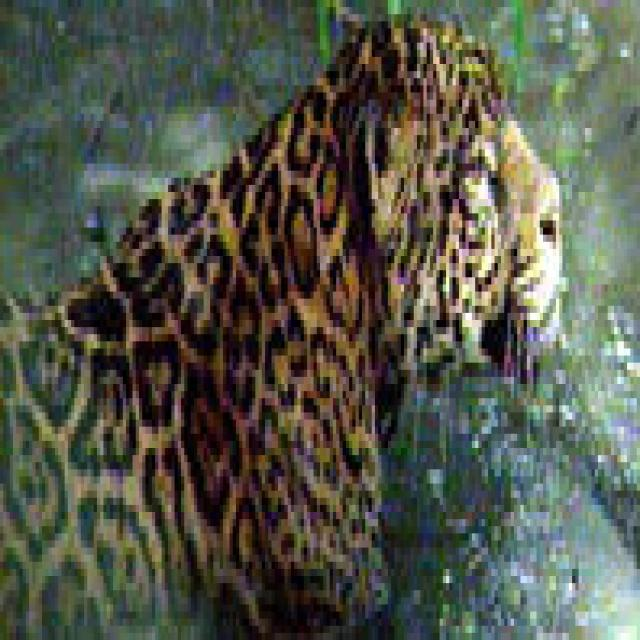Leopard: (0, 7, 562, 625)
